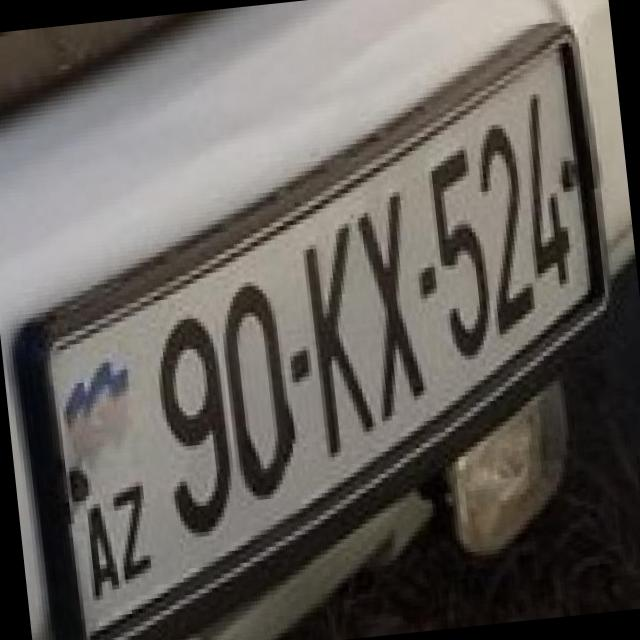0: (202, 265, 305, 503)
2: (458, 104, 542, 323)
4: (497, 46, 601, 296)
5: (411, 130, 498, 362)
9: (133, 294, 239, 536)
A: (61, 489, 120, 602)
K: (284, 205, 382, 454)
X: (340, 178, 429, 418)
Z: (96, 472, 158, 582)
